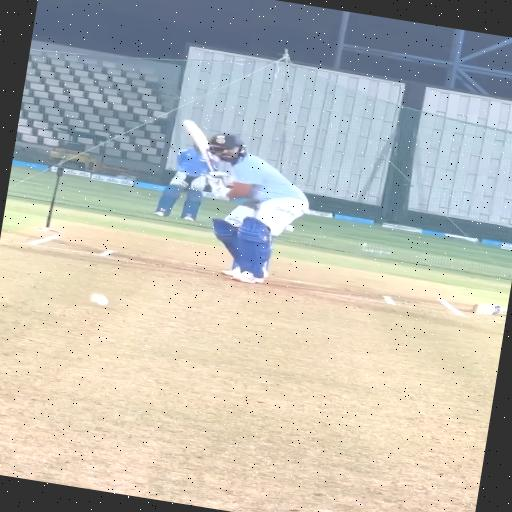Cricket bat: (183, 120, 213, 171), (211, 178, 224, 189)
